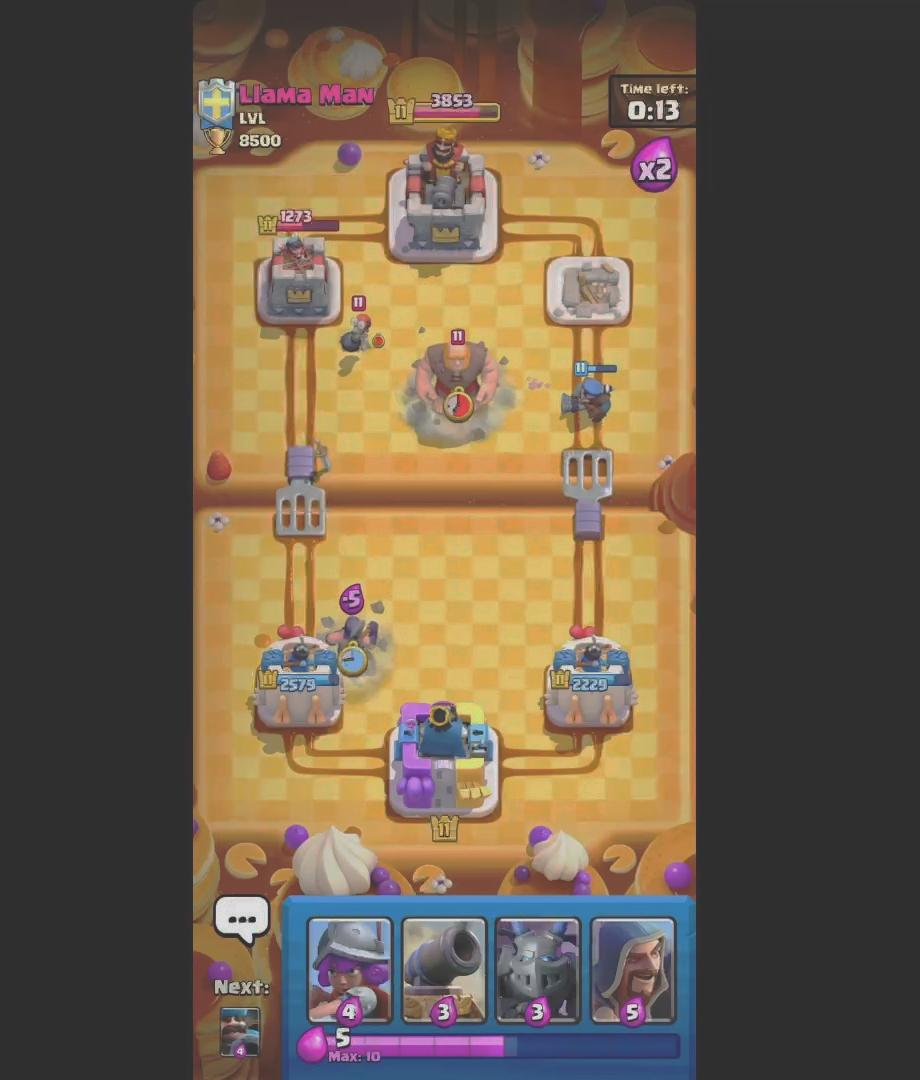Bomber: (329, 283, 389, 363)
Giant: (413, 329, 505, 427)
